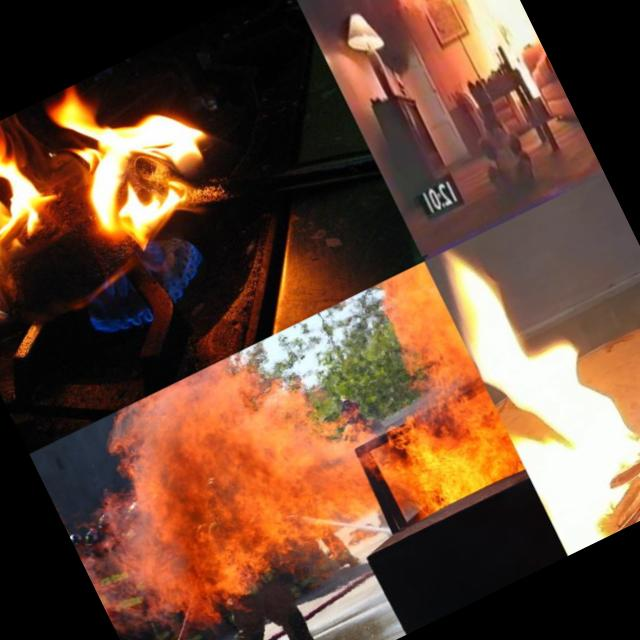fire: (29, 261, 527, 640), (423, 173, 640, 555), (0, 35, 259, 346), (397, 0, 560, 117)
